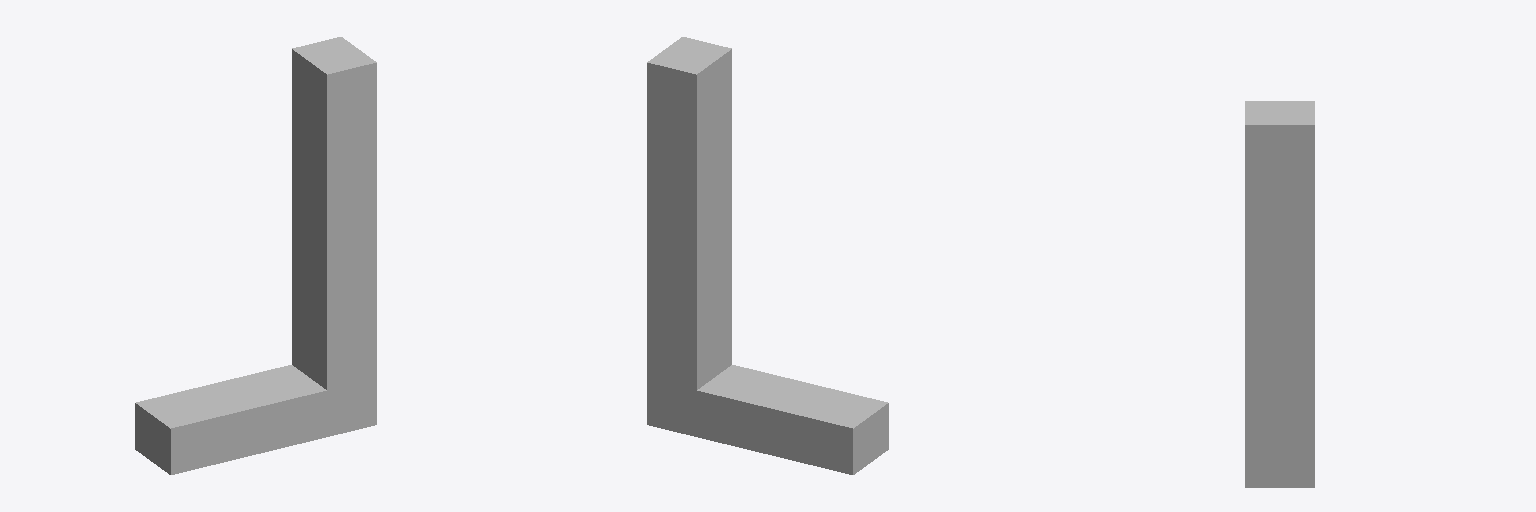
Rendered from UI_Lstick2.obj.
3 renders of one model, left to right at view 1: azimuth 30°, elevation 25°; view 2: azimuth 150°, elevation 25°; view 3: azimuth 270°, elevation 25°, orthographic.
Parts seen in each view (by area): view 1: テキスト.001; view 2: テキスト.001; view 3: テキスト.001.
Boxes of the visible parts, x1,y1,x2,y2 form: テキスト.001: [135, 37, 376, 474]; テキスト.001: [647, 37, 888, 474]; テキスト.001: [1245, 101, 1314, 487].
Bounding box in the file's own units: 0.1344 × 0.2258 × 0.04.